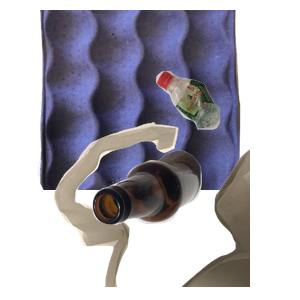glass: (90, 148, 300, 300)
paper: (35, 10, 268, 190)
plastic: (153, 68, 300, 190)
trash: (51, 120, 291, 300)
